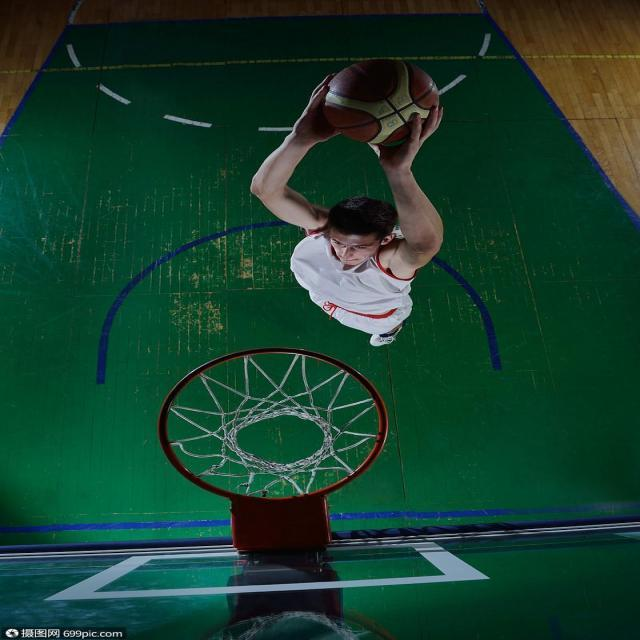rim: (324, 61, 446, 147)
